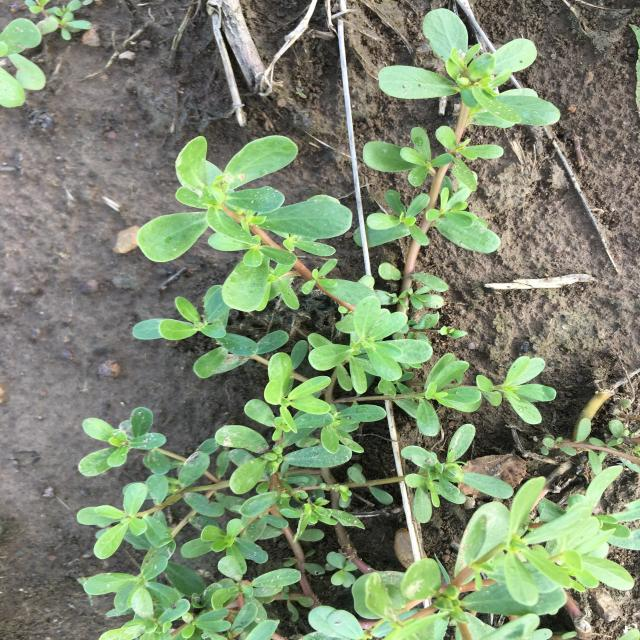Purslane: (77, 8, 639, 640), (0, 0, 91, 107)
